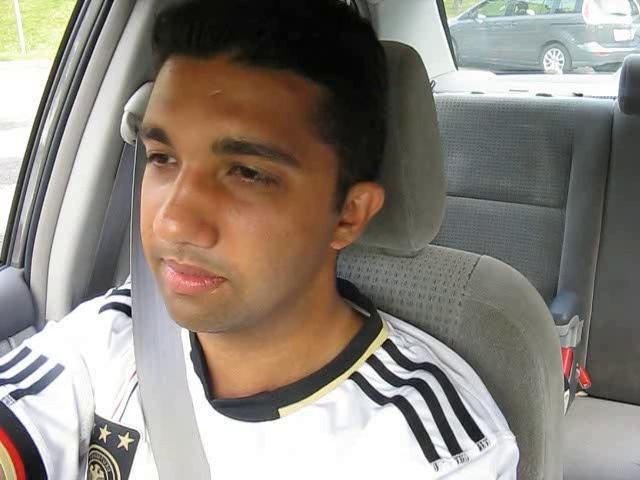close_eyeL: (134, 136, 190, 181)
close_eyeR: (207, 146, 297, 202)
no_yawn: (137, 251, 243, 301)
